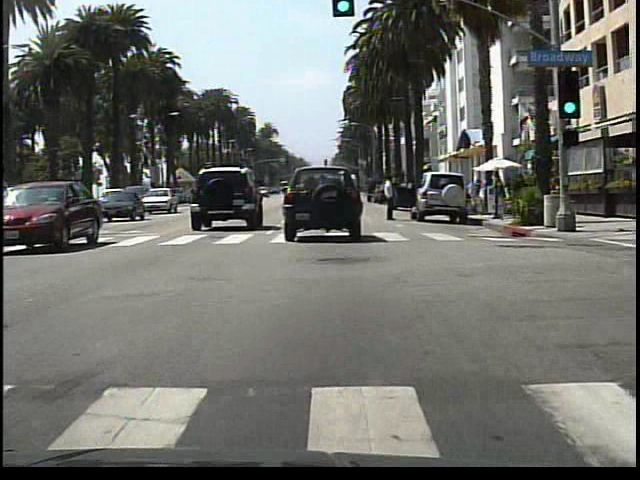person: (379, 170, 401, 226)
